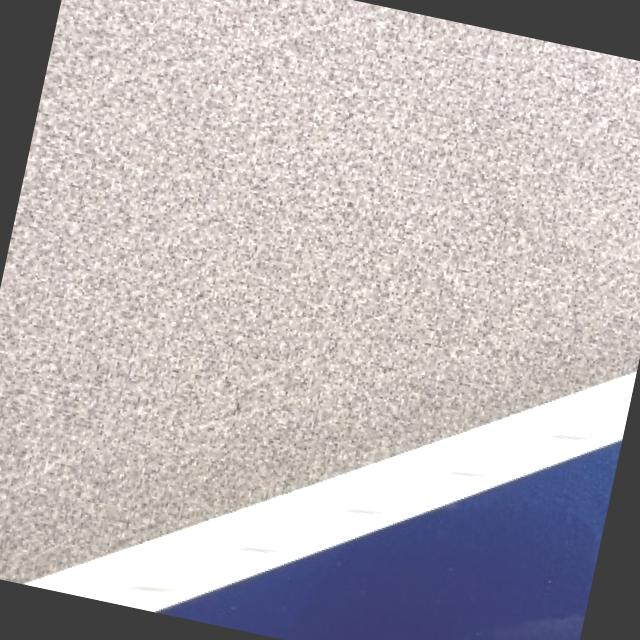healthy: (0, 0, 640, 582)
